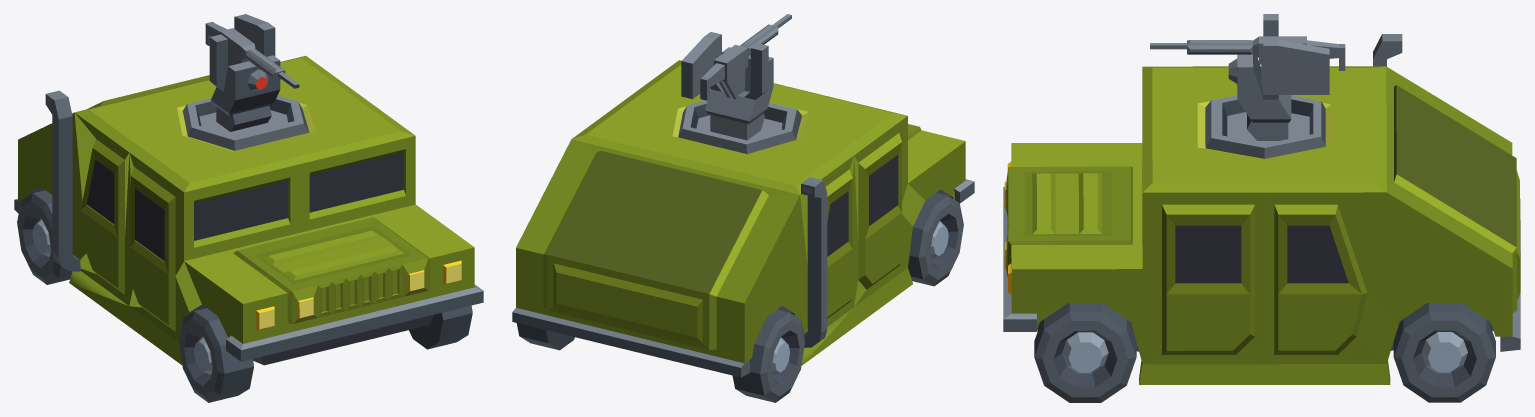
File: Armored_Vehicles1.fbx
3 views of the same model, side by side, from view 1: azimuth 30°, elevation 25°; view 2: azimuth 150°, elevation 25°; view 3: azimuth 270°, elevation 25° (orthographic). The views are drawn at different scales.
Visible parts, largest first — view 1: Body, Turret, Tie3, pipe, Tie, Tie2; view 2: Body, Turret, Tie, Tie3, pipe, Tie1; view 3: Body, Turret, Tie1, Tie2, pipe.
Part boxes in pixels (x1,y1,x2,y2): Body: (14,55,483,365); Turret: (205,14,299,131); Tie3: (178,308,253,402); pipe: (45,90,80,271); Tie: (17,190,72,284); Tie2: (409,305,472,349); Body: (512,60,974,377); Turret: (681,14,791,140); Tie: (732,309,805,402); Tie3: (908,193,963,286); pipe: (801,177,827,347); Tie1: (516,323,574,350); Body: (1003,66,1520,384); Turret: (1150,14,1345,140); Tie1: (1393,302,1495,402); Tie2: (1034,303,1136,402); pipe: (1373,34,1402,66).
Bounding box in the file's own units: 163 × 161 × 248.
